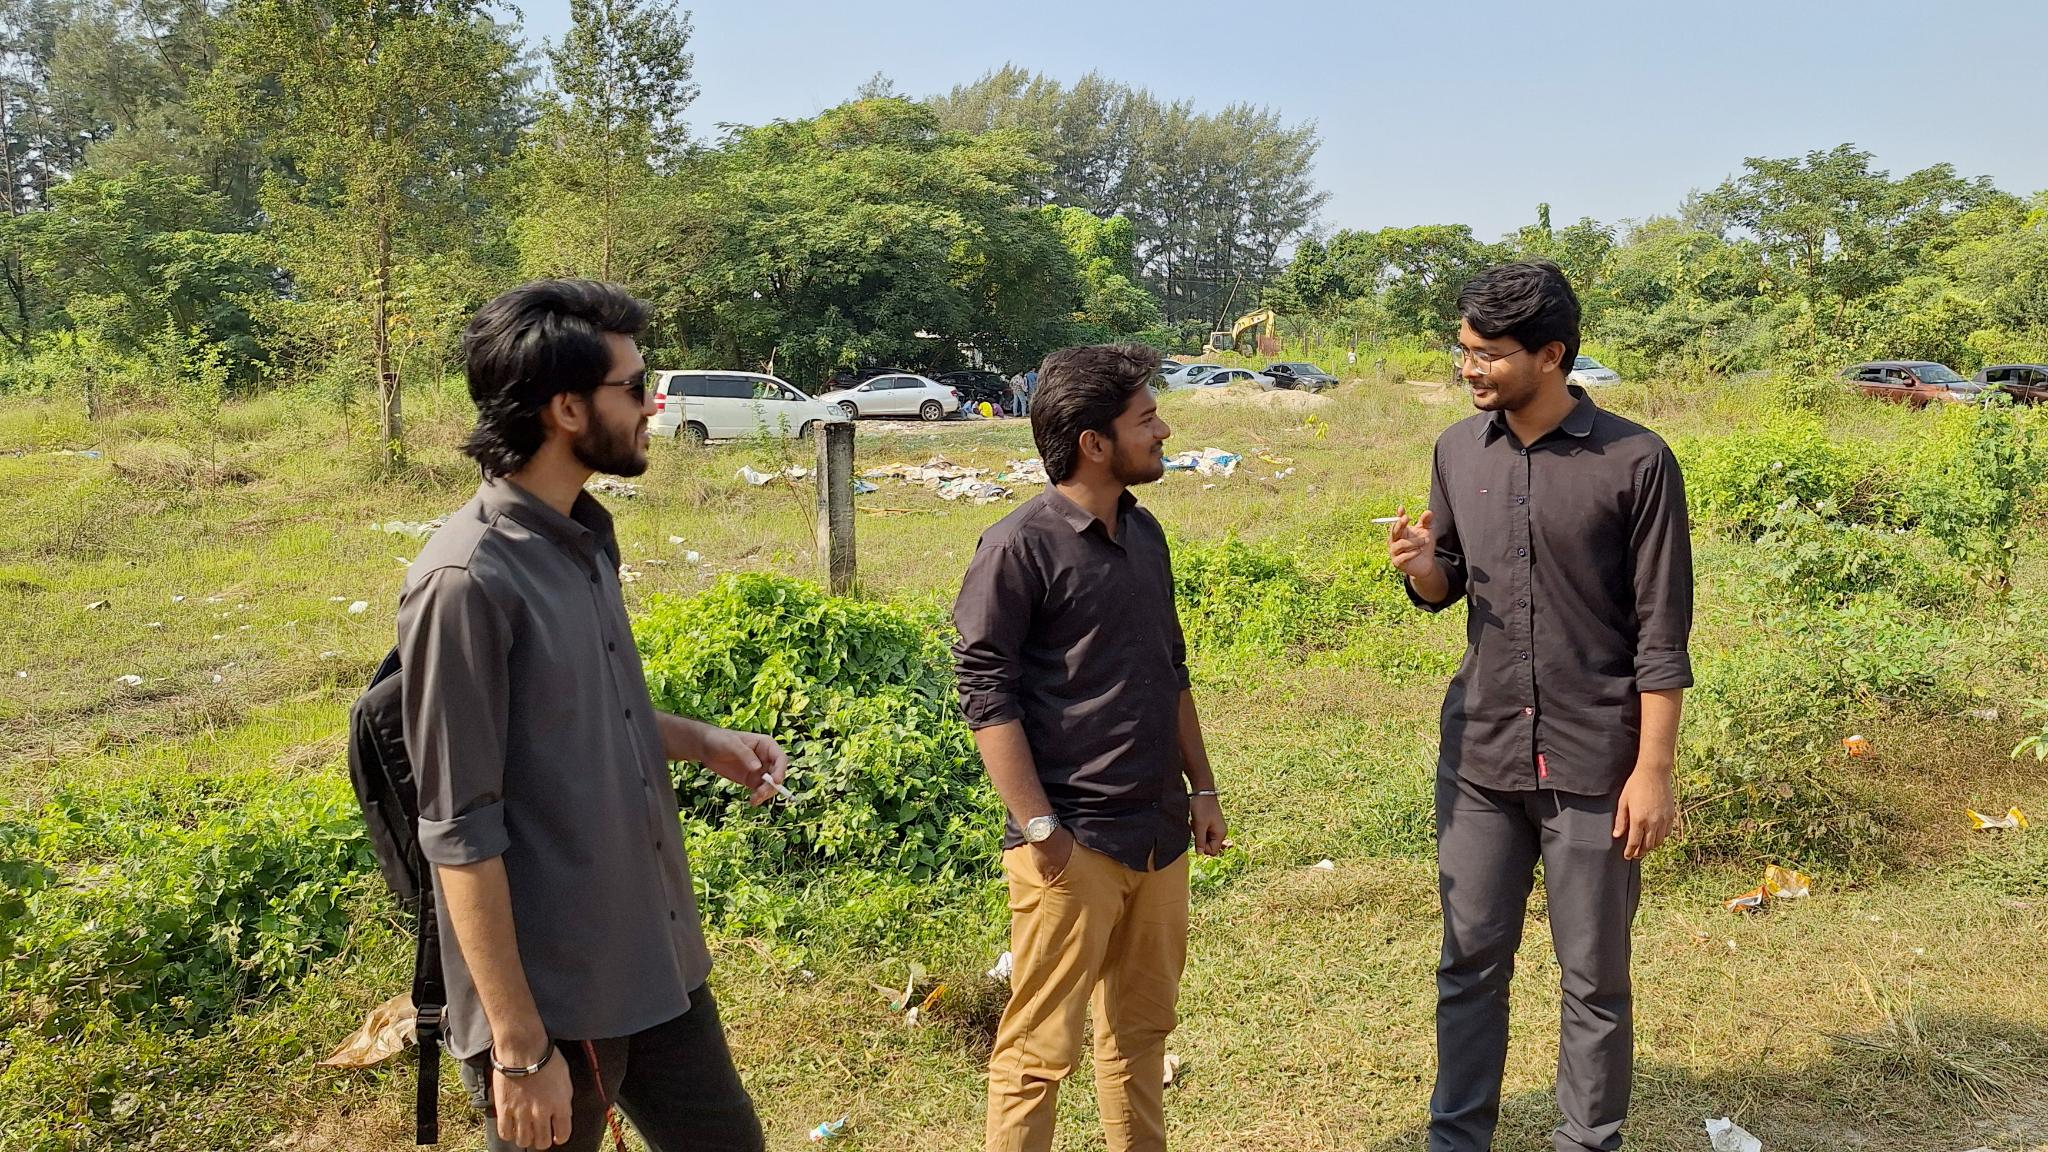cigarette: (761, 771, 802, 807), (1370, 512, 1414, 526)
nonSmoker: (949, 345, 1228, 1152)
smoker: (349, 279, 789, 1152), (1387, 263, 1694, 1152)
